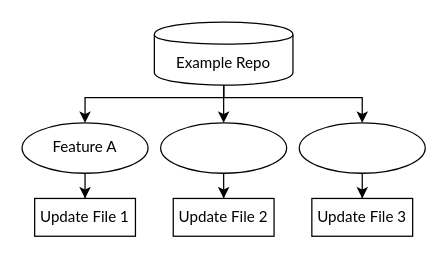
The diagram is 447 pixels wide and 258 high, and some of its shapes have lost their labels. The shapes that lost their labels are listed below. From the top down, each one's centre as x and y in pixels, then its label:
point (223, 147): Feature B
point (361, 147): Feature C
